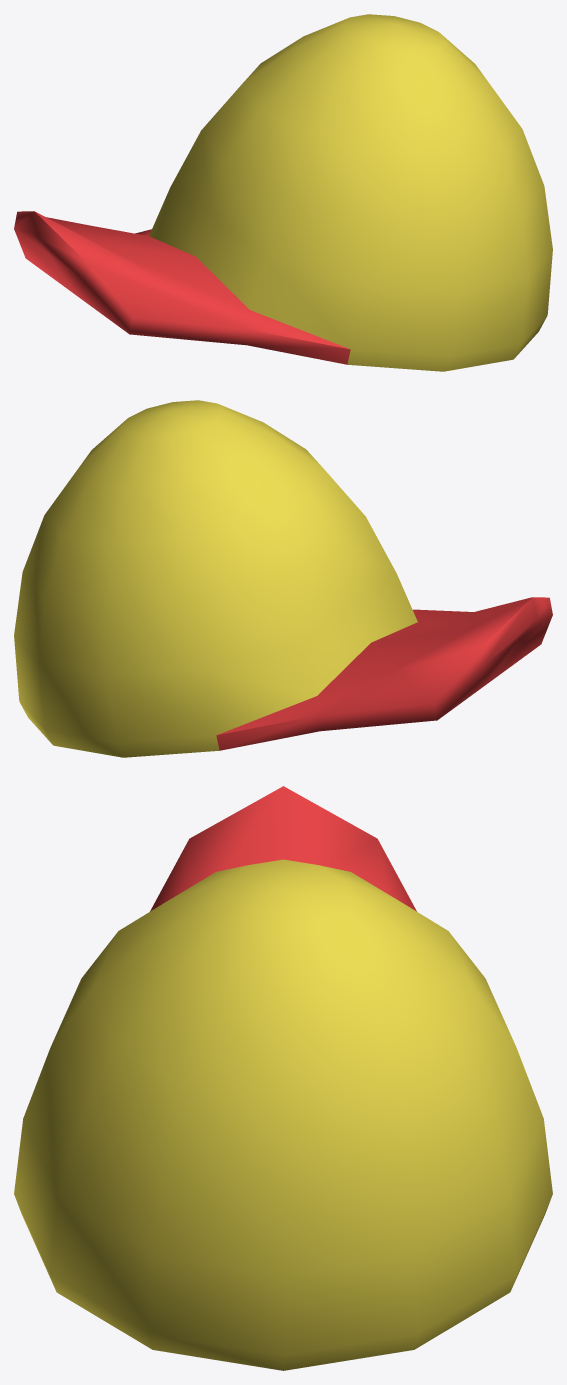
The model's file is Ant hat.fbx.
3 views of the same model, one above another, from view 1: azimuth 30°, elevation 25°; view 2: azimuth 150°, elevation 25°; view 3: azimuth 270°, elevation 25° (orthographic). The views are drawn at different scales.
Visible parts, largest first — view 1: Sphere; view 2: Sphere; view 3: Sphere.
Part boxes in pixels (x1,y1,x2,y2): Sphere: (14,14,552,371); Sphere: (14,400,552,757); Sphere: (14,786,552,1370).
Size of the model in its own units: 43.54 by 25.16 by 30.37.
